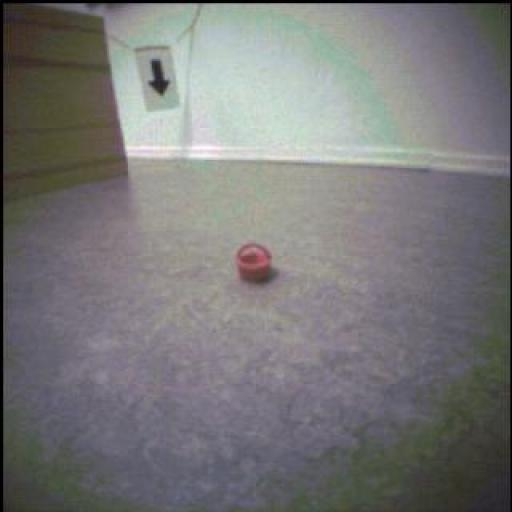Arrow: (150, 60, 171, 97)
Bucket: (238, 240, 274, 285)
